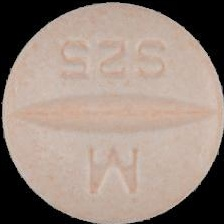0378-5125: (0, 0, 224, 224)
